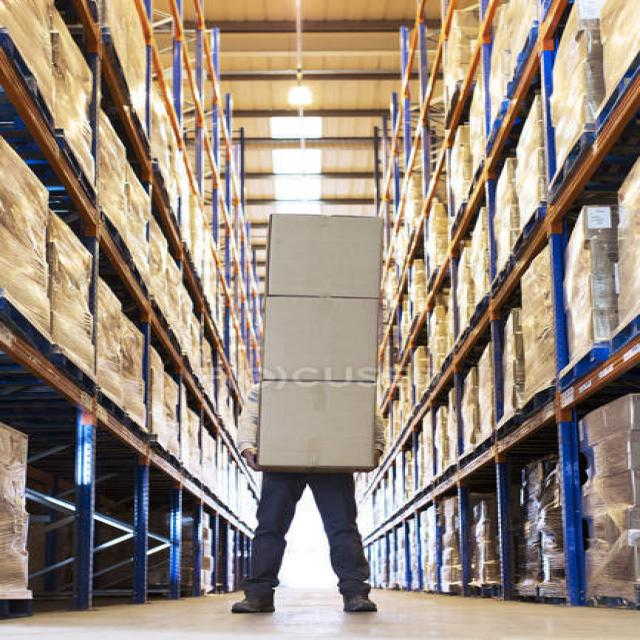box: (244, 379, 396, 485), (250, 287, 403, 388), (265, 199, 396, 298)
